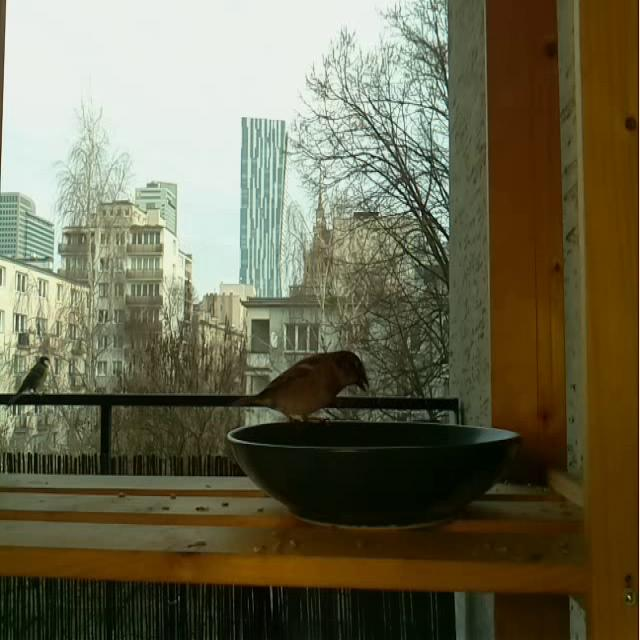Wrobel: (233, 348, 369, 425)
